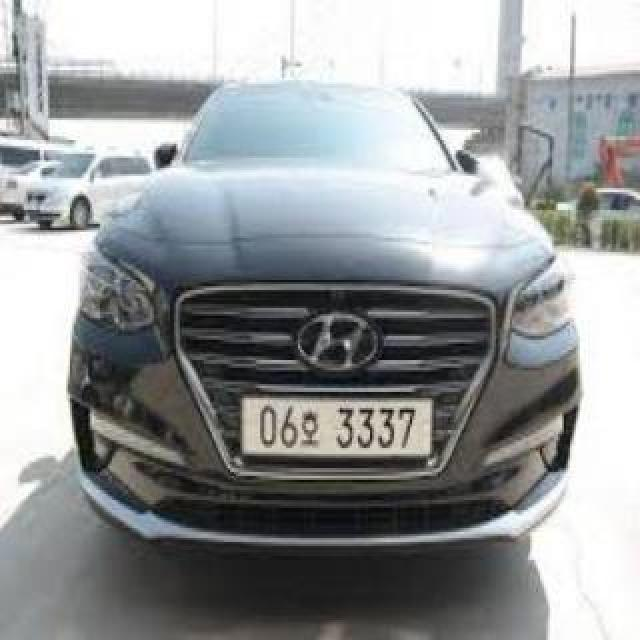car: (56, 70, 594, 573)
illegal_plate: (241, 389, 433, 470)
